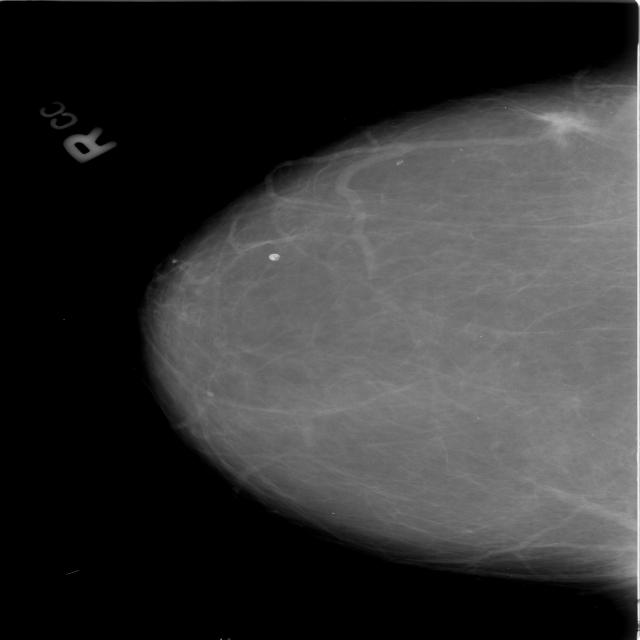normal: (142, 44, 640, 568)
